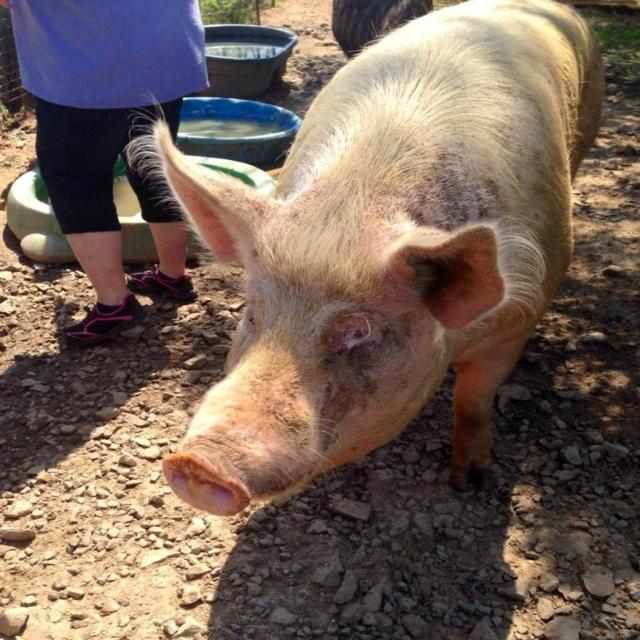Pig: (123, 0, 606, 519)
